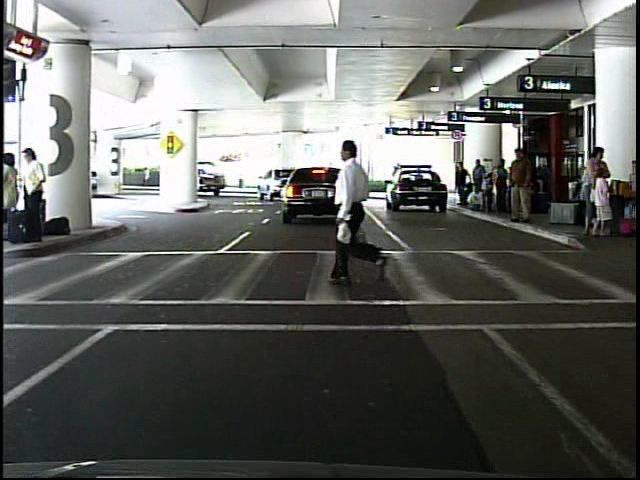person: (326, 132, 395, 295), (22, 146, 50, 246), (506, 145, 537, 225), (3, 150, 31, 237), (454, 163, 471, 210), (142, 163, 153, 190)
